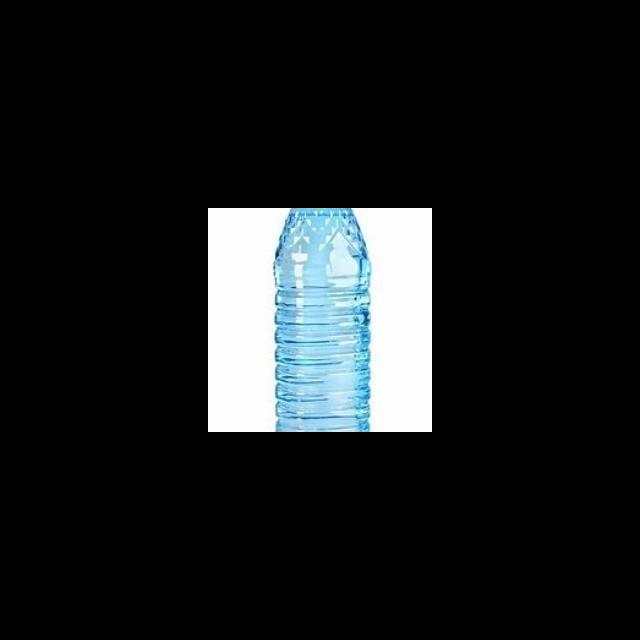plastic: (272, 208, 373, 432)
